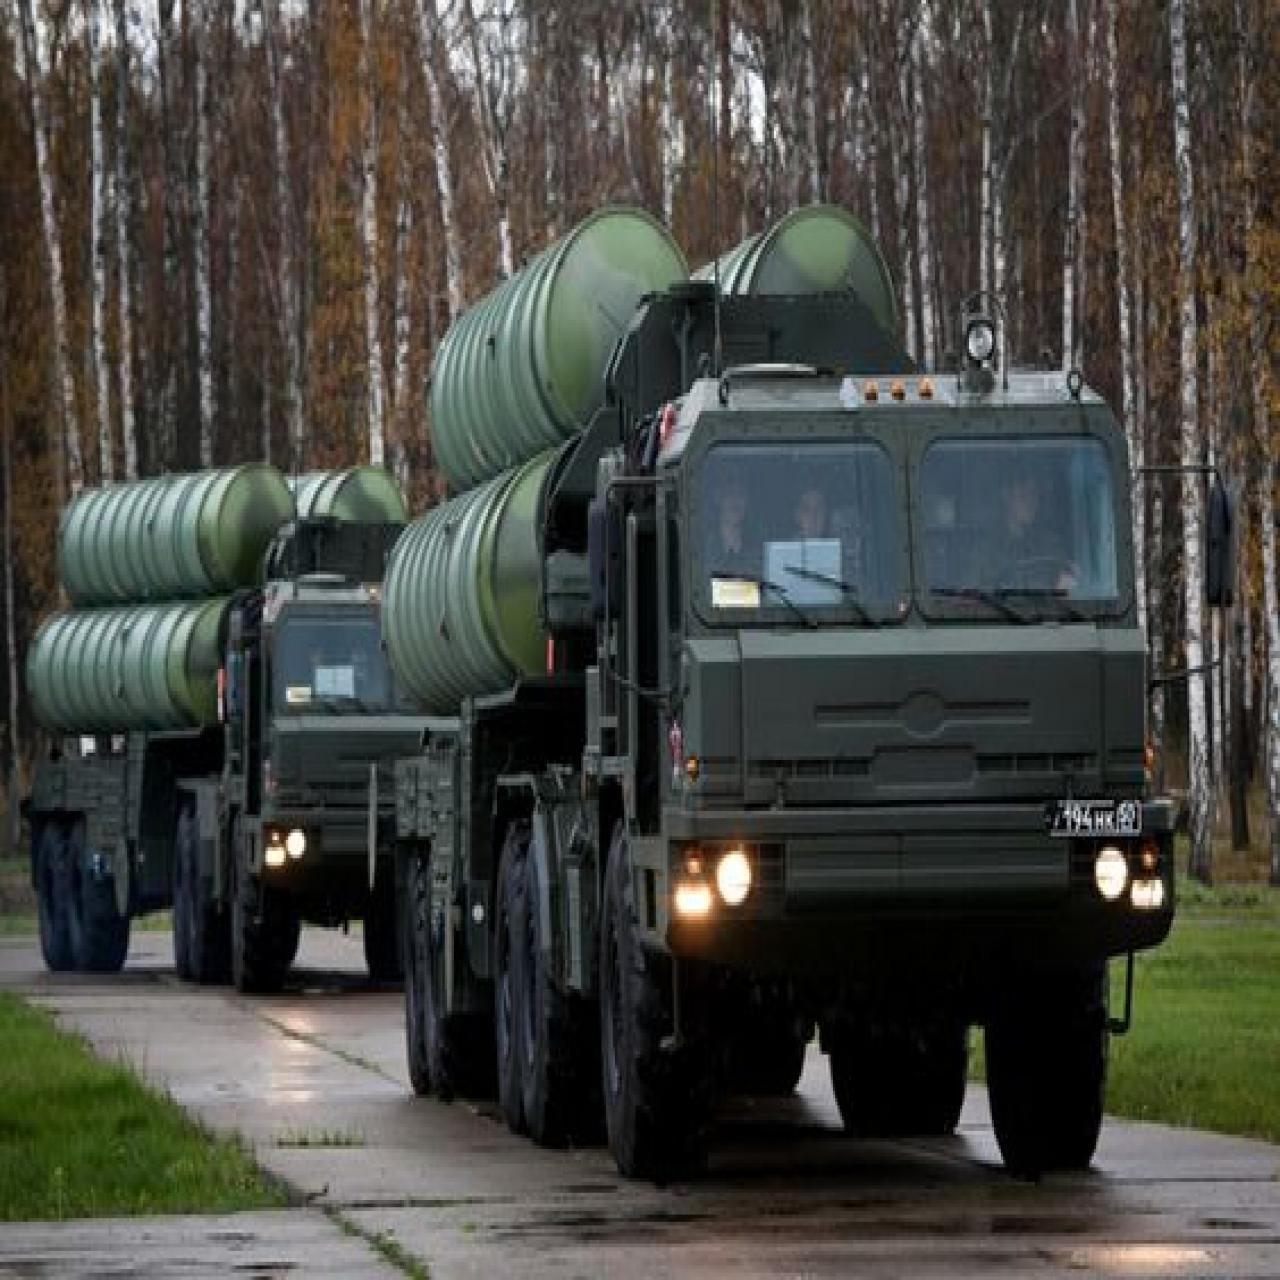MIL_Veh: (389, 210, 1159, 1184), (35, 465, 394, 980)
